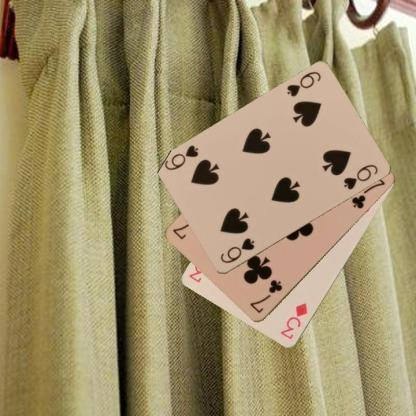3d: (278, 300, 309, 341)
6s: (218, 235, 256, 265), (284, 69, 322, 99)
7c: (246, 277, 284, 315)
